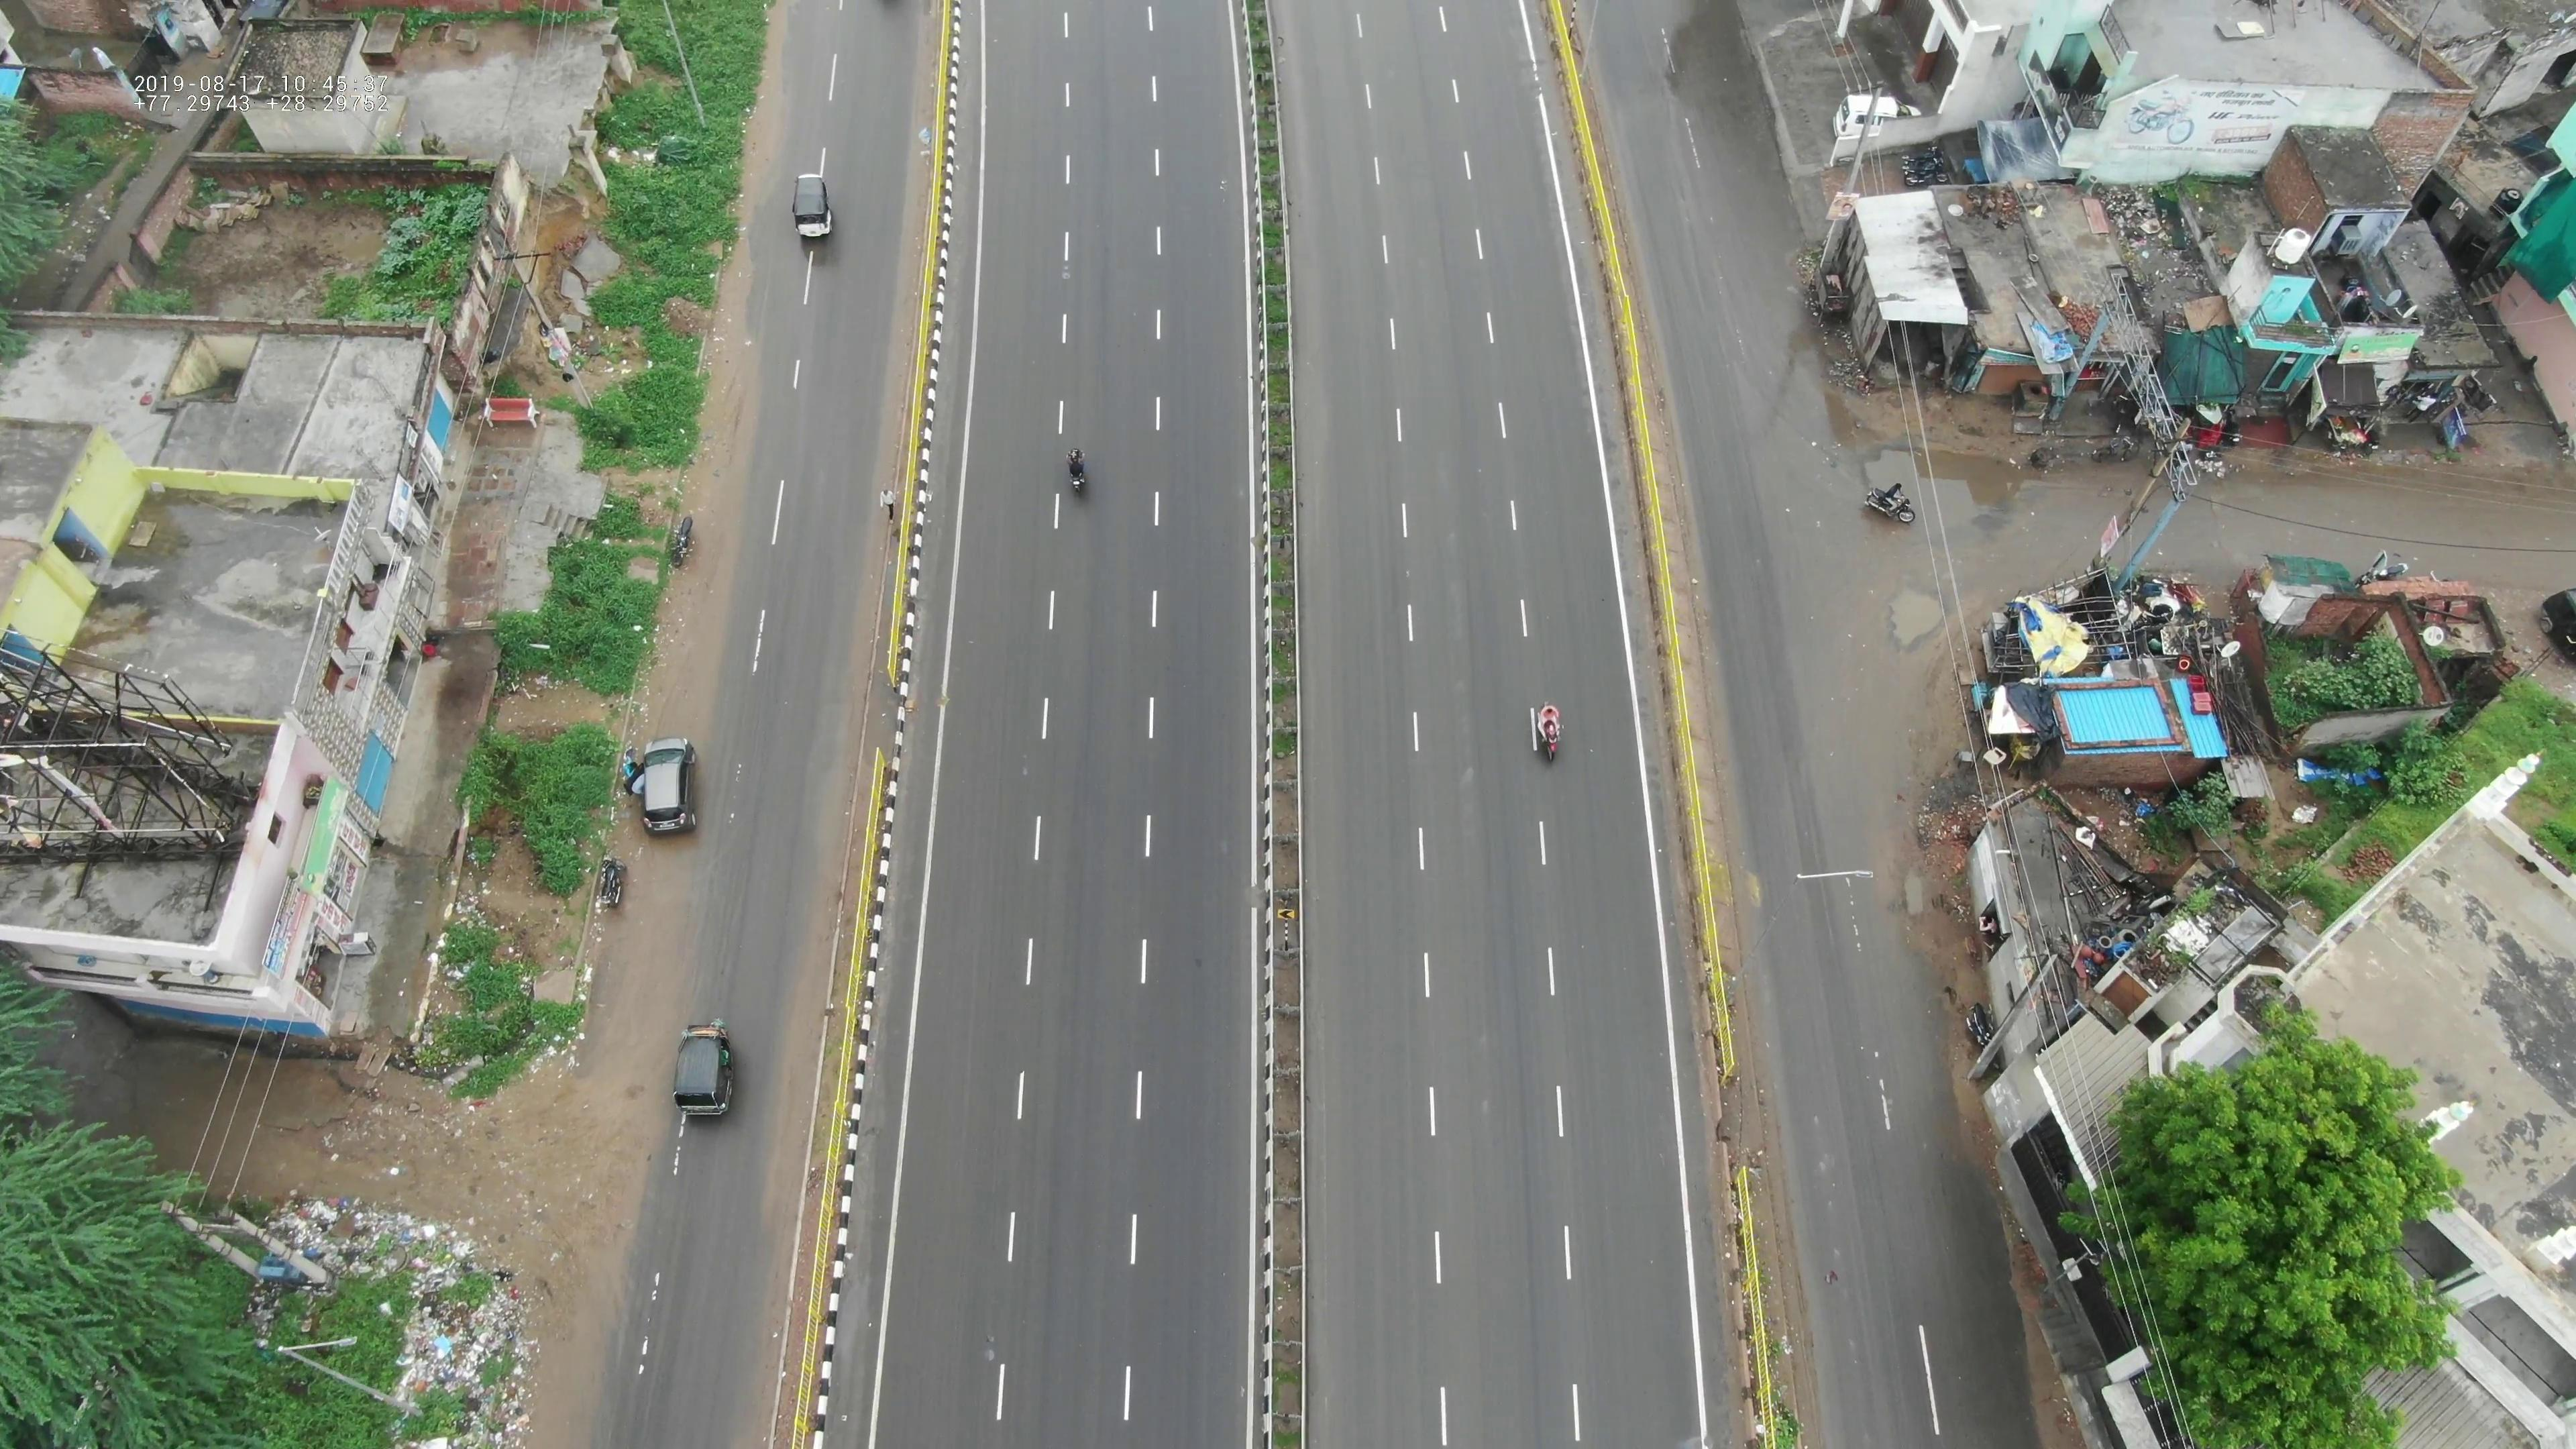Muddy_road: (630, 465, 738, 711), (602, 941, 656, 1178)
Road_side_garbage: (354, 1214, 533, 1407)
